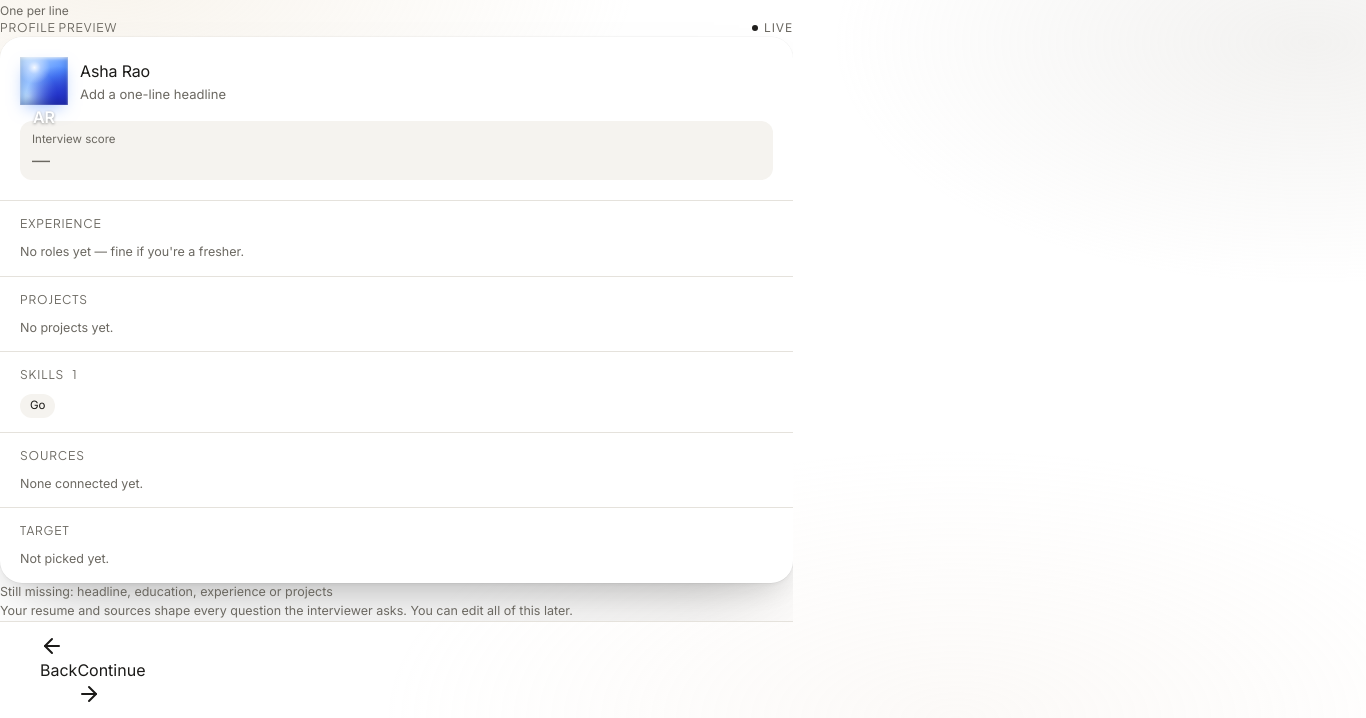
Scenario: OnboardingWizard › requires a current engineering level before leaving Profile
Later steps or results of the test are not shown.
(page scrolled)
Click the button "Continue" at (111, 682), box [77,658,146,706]
(page scrolled)
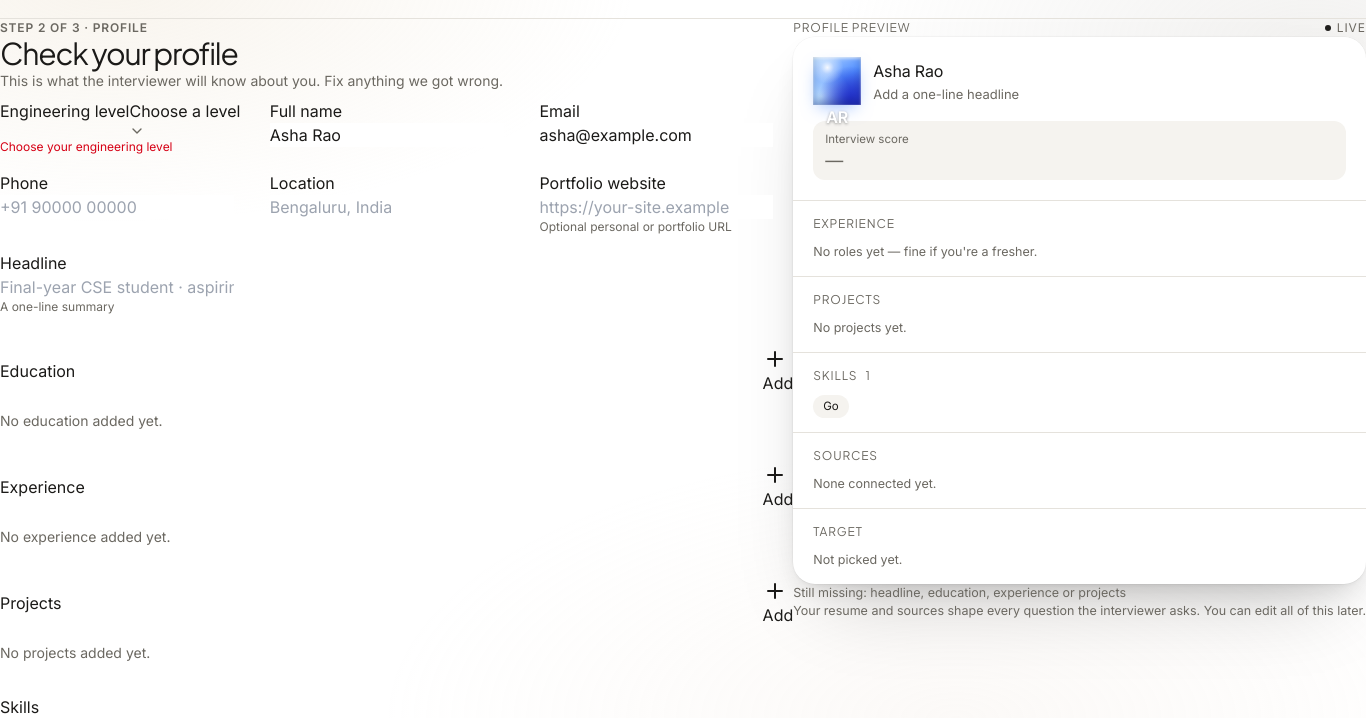
Expected: the text "Choose your engineering level" is shown, [0,139,172,154]
Click the dropdown named "Engineering level" at (185, 119), box [130,99,240,139]
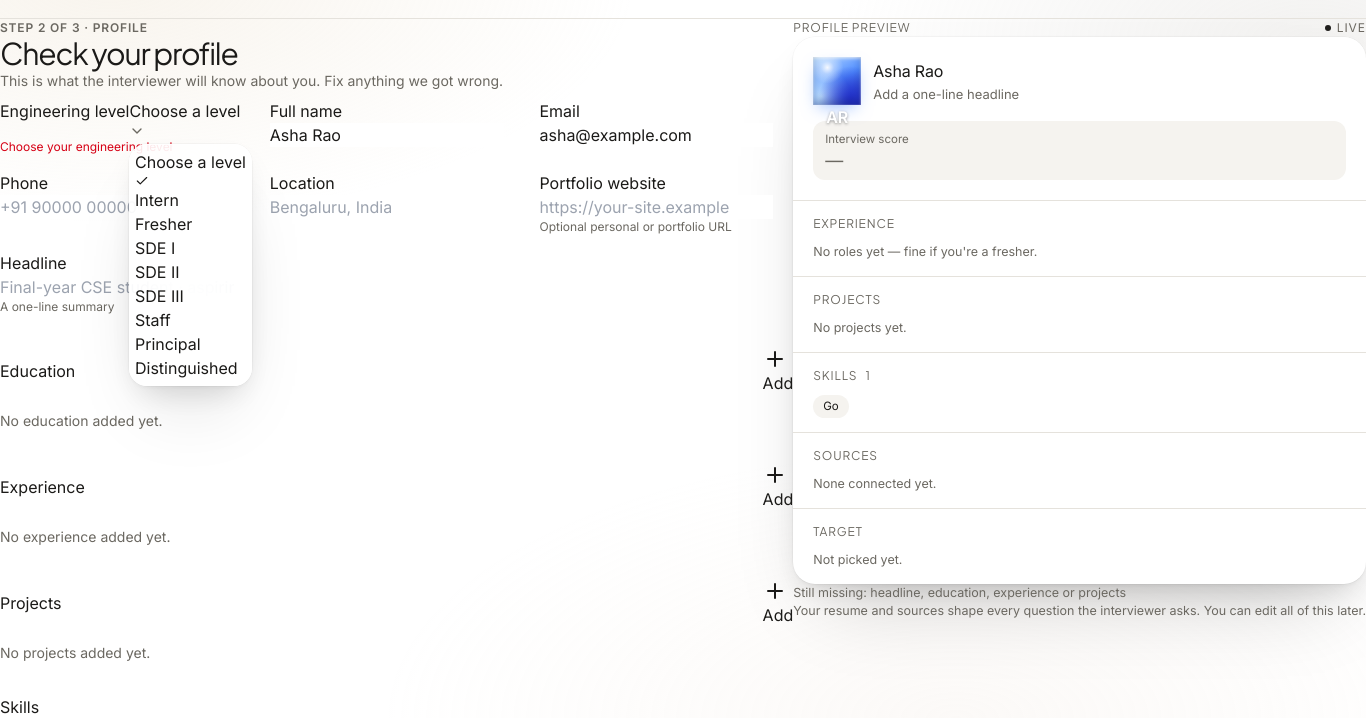
Expected: the number of options is 9
